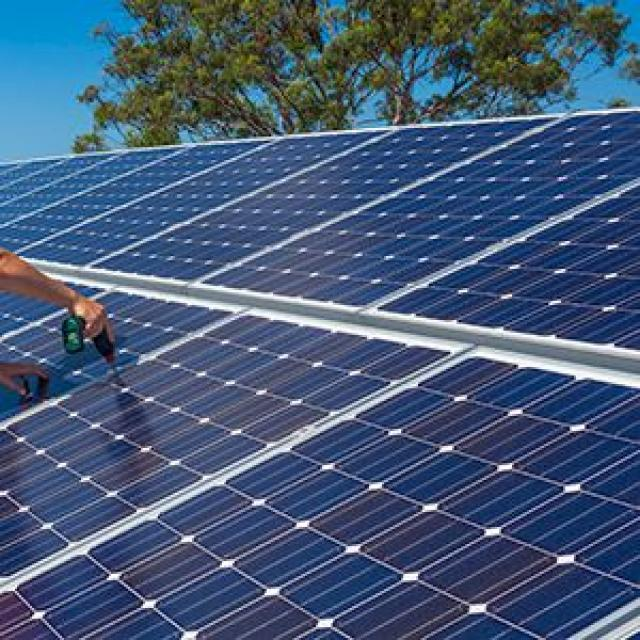clean-solar-panel: (1, 110, 640, 640), (0, 111, 640, 349)
